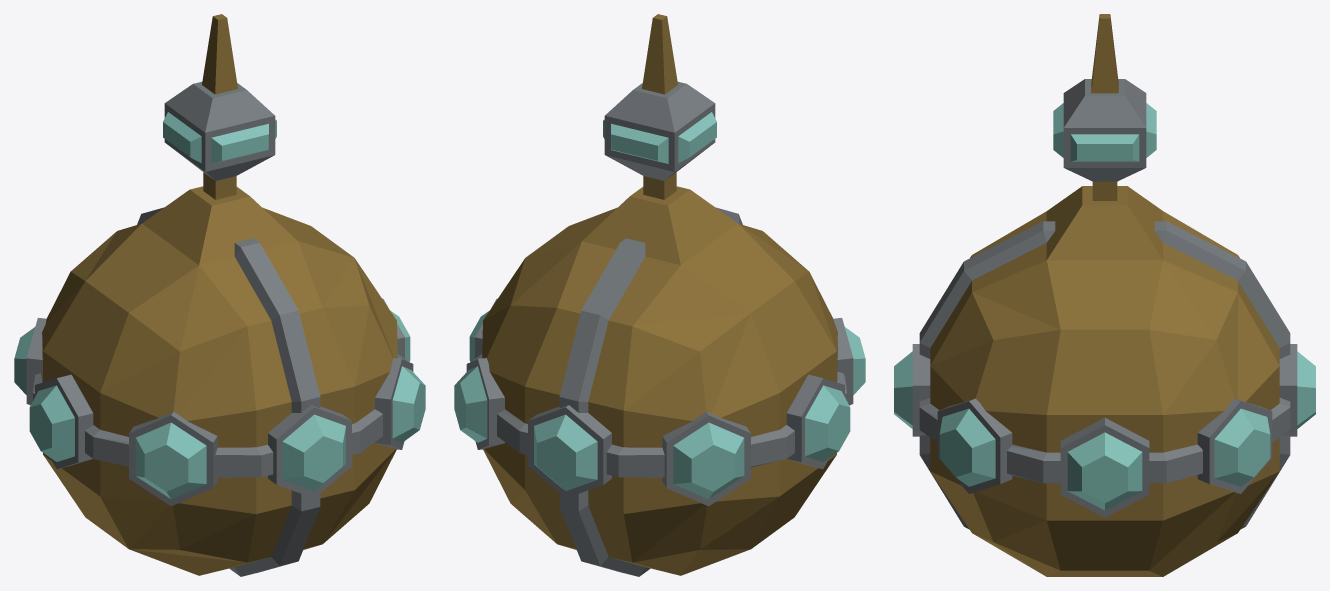
Rendered from WM_Orb.fbx.
3 views of the same model, side by side, from view 1: azimuth 30°, elevation 25°; view 2: azimuth 150°, elevation 25°; view 3: azimuth 270°, elevation 25° (orthographic).
Visible parts, largest first — view 1: Sphere; view 2: Sphere; view 3: Sphere.
Boxes of the visible parts, bbox=[...] form: Sphere: bbox=[14, 14, 425, 576]; Sphere: bbox=[454, 14, 865, 576]; Sphere: bbox=[894, 14, 1315, 576].
Size of the model in its own units: 2.32 by 3.31 by 2.32.
